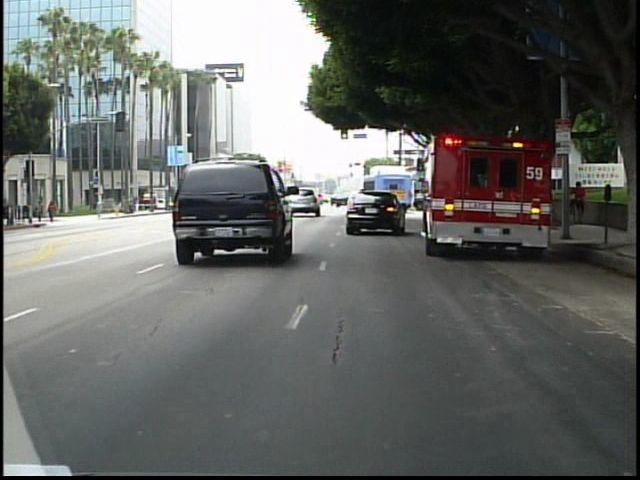person: (568, 179, 587, 227), (48, 198, 61, 225), (37, 200, 49, 225)
